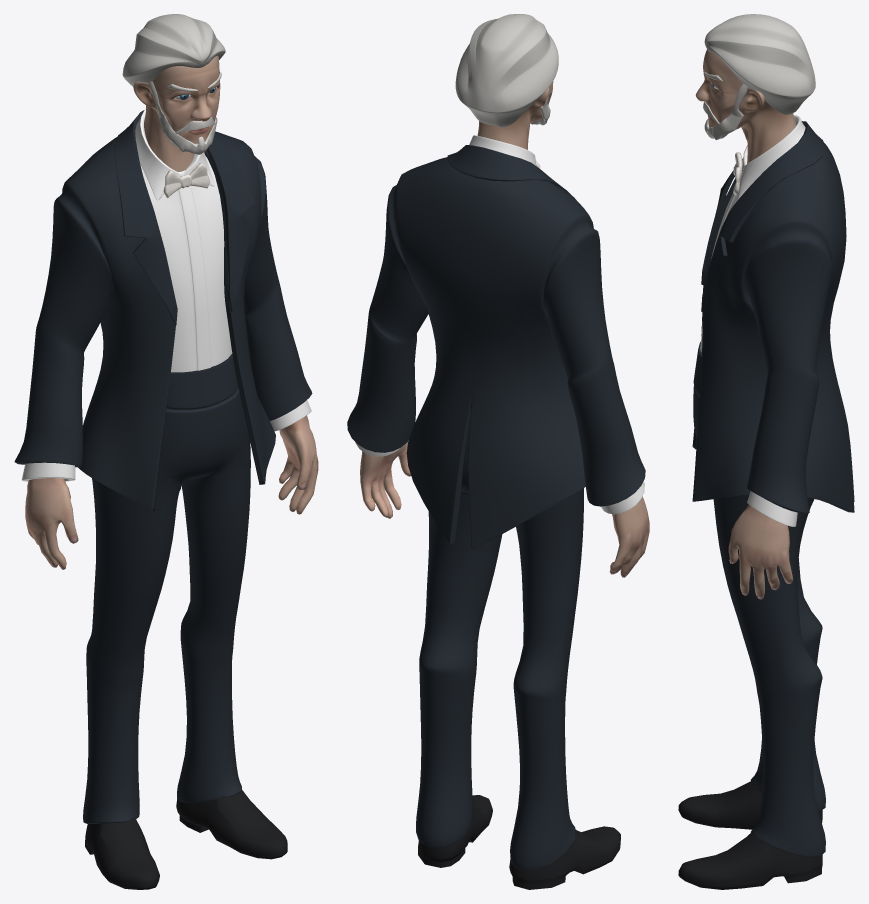
The model's file is Herz_stand.fbx.
3 renders of one model, left to right at view 1: azimuth 30°, elevation 25°; view 2: azimuth 150°, elevation 25°; view 3: azimuth 270°, elevation 25°, orthographic.
Visible parts, largest first — view 1: polySurface3, Group63719, Group63718, Group6body_cloth, Group60858, Group11, polySurface2, polySurface1, Group54817body_skinHerz_lo, Group54818, Group10, Group16589 (+2 smaller); view 2: polySurface3, Group63719, Group11, polySurface1, Group6body_cloth, Group54818, Group54817body_skinHerz_lo, polySurface2, Group60858, Group10; view 3: polySurface3, Group63719, Group11, polySurface2, Group60858, Group6body_cloth, Group54818, polySurface1, Group10, Group63720, Group16589.
Boxes of the visible parts, bbox=[...] form: polySurface3: bbox=[14, 131, 312, 511]; Group63719: bbox=[83, 354, 250, 824]; Group63718: bbox=[140, 156, 232, 372]; Group6body_cloth: bbox=[114, 110, 255, 325]; Group60858: bbox=[133, 55, 220, 171]; Group11: bbox=[122, 14, 225, 86]; polySurface2: bbox=[176, 790, 287, 859]; polySurface1: bbox=[85, 818, 159, 889]; Group54817body_skinHerz_lo: bbox=[25, 478, 78, 569]; Group54818: bbox=[278, 415, 318, 514]; Group10: bbox=[135, 109, 215, 200]; Group16589: bbox=[149, 81, 217, 154]; polySurface3: bbox=[347, 157, 645, 549]; Group63719: bbox=[416, 416, 583, 869]; Group11: bbox=[455, 14, 558, 127]; polySurface1: bbox=[509, 826, 620, 889]; Group6body_cloth: bbox=[447, 145, 576, 200]; Group54818: bbox=[360, 442, 411, 518]; Group54817body_skinHerz_lo: bbox=[609, 496, 649, 577]; polySurface2: bbox=[418, 795, 492, 867]; Group60858: bbox=[477, 81, 553, 149]; Group10: bbox=[469, 135, 536, 165]; polySurface3: bbox=[692, 143, 854, 513]; Group63719: bbox=[693, 341, 825, 857]; Group11: bbox=[704, 14, 815, 114]; polySurface2: bbox=[678, 833, 822, 889]; Group60858: bbox=[695, 49, 795, 163]; Group6body_cloth: bbox=[701, 121, 825, 312]; Group54818: bbox=[728, 504, 792, 599]; polySurface1: bbox=[678, 781, 822, 829]; Group10: bbox=[738, 115, 805, 199]; Group63720: bbox=[747, 491, 797, 526]; Group16589: bbox=[704, 84, 747, 139].
Size of the model in its own units: 6.71 by 18.35 by 3.53.
